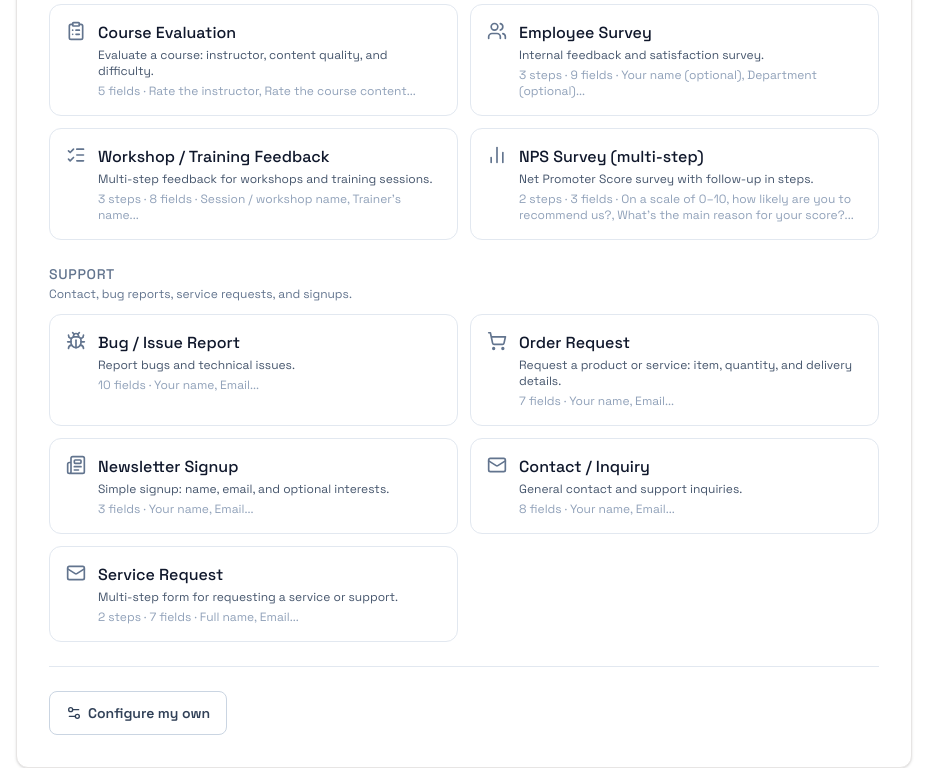
Test: CreateFormPage › shows backend error when save fails
(page scrolled)
Click the button "Configure my own": (138, 713) [49,691,227,735]
(page scrolled)
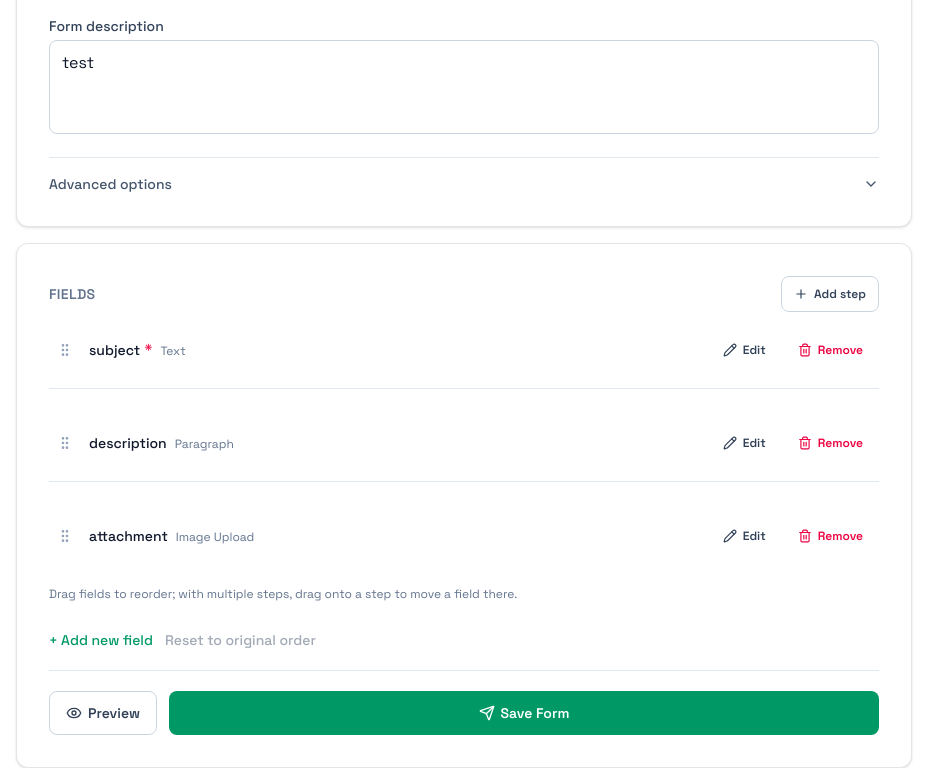
Click the button "Save Form": (524, 713) [169,691,879,735]
(page scrolled)
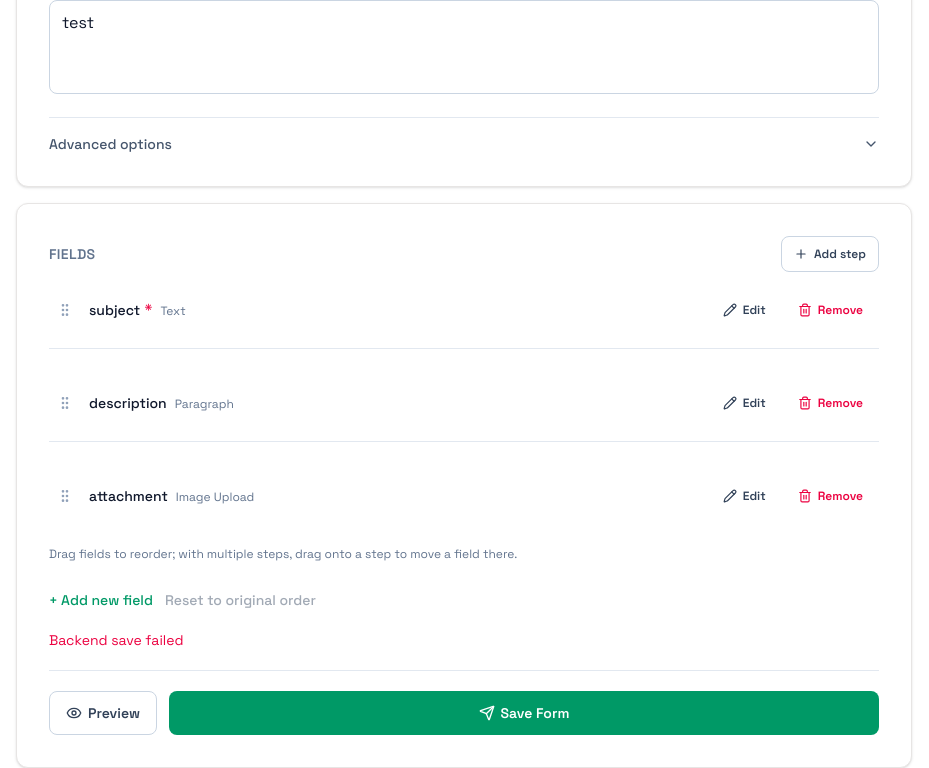
Expected: the text "Backend save failed" is shown, [49,631,184,649]
